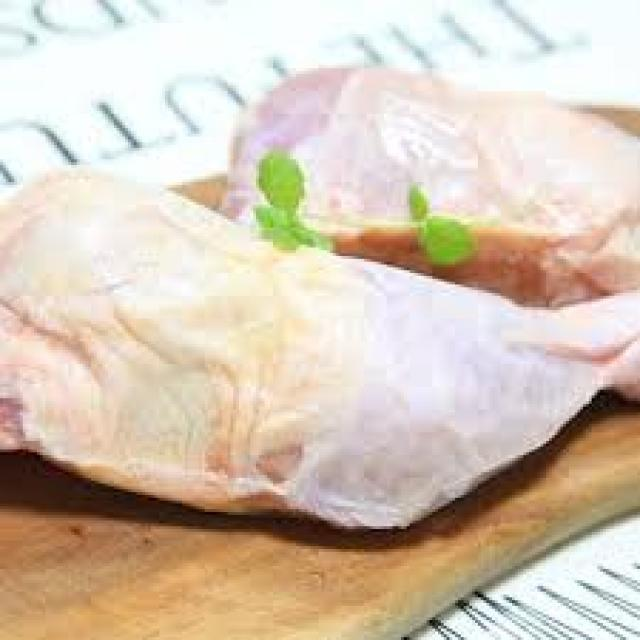chicken: (0, 159, 640, 539), (232, 62, 640, 308)
